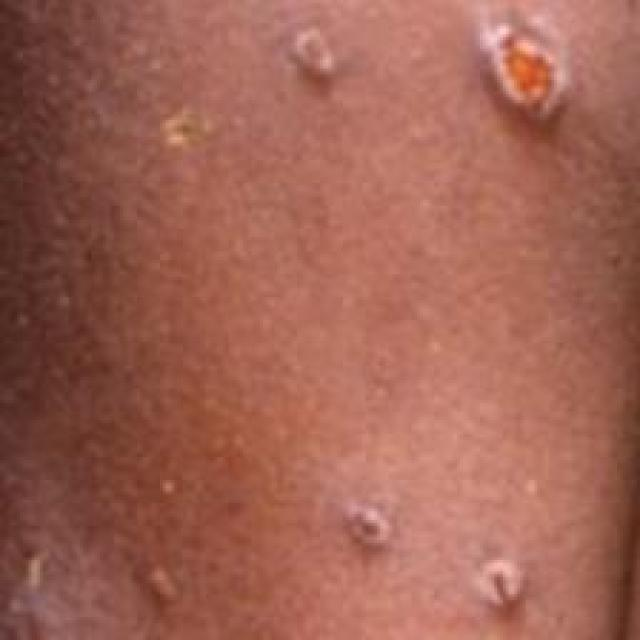monkeypox: (8, 0, 640, 628)
